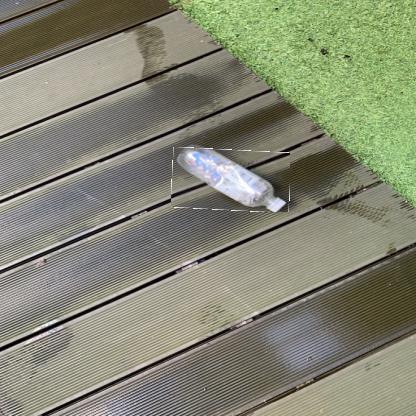plastic-bottles: (173, 149, 291, 213)
